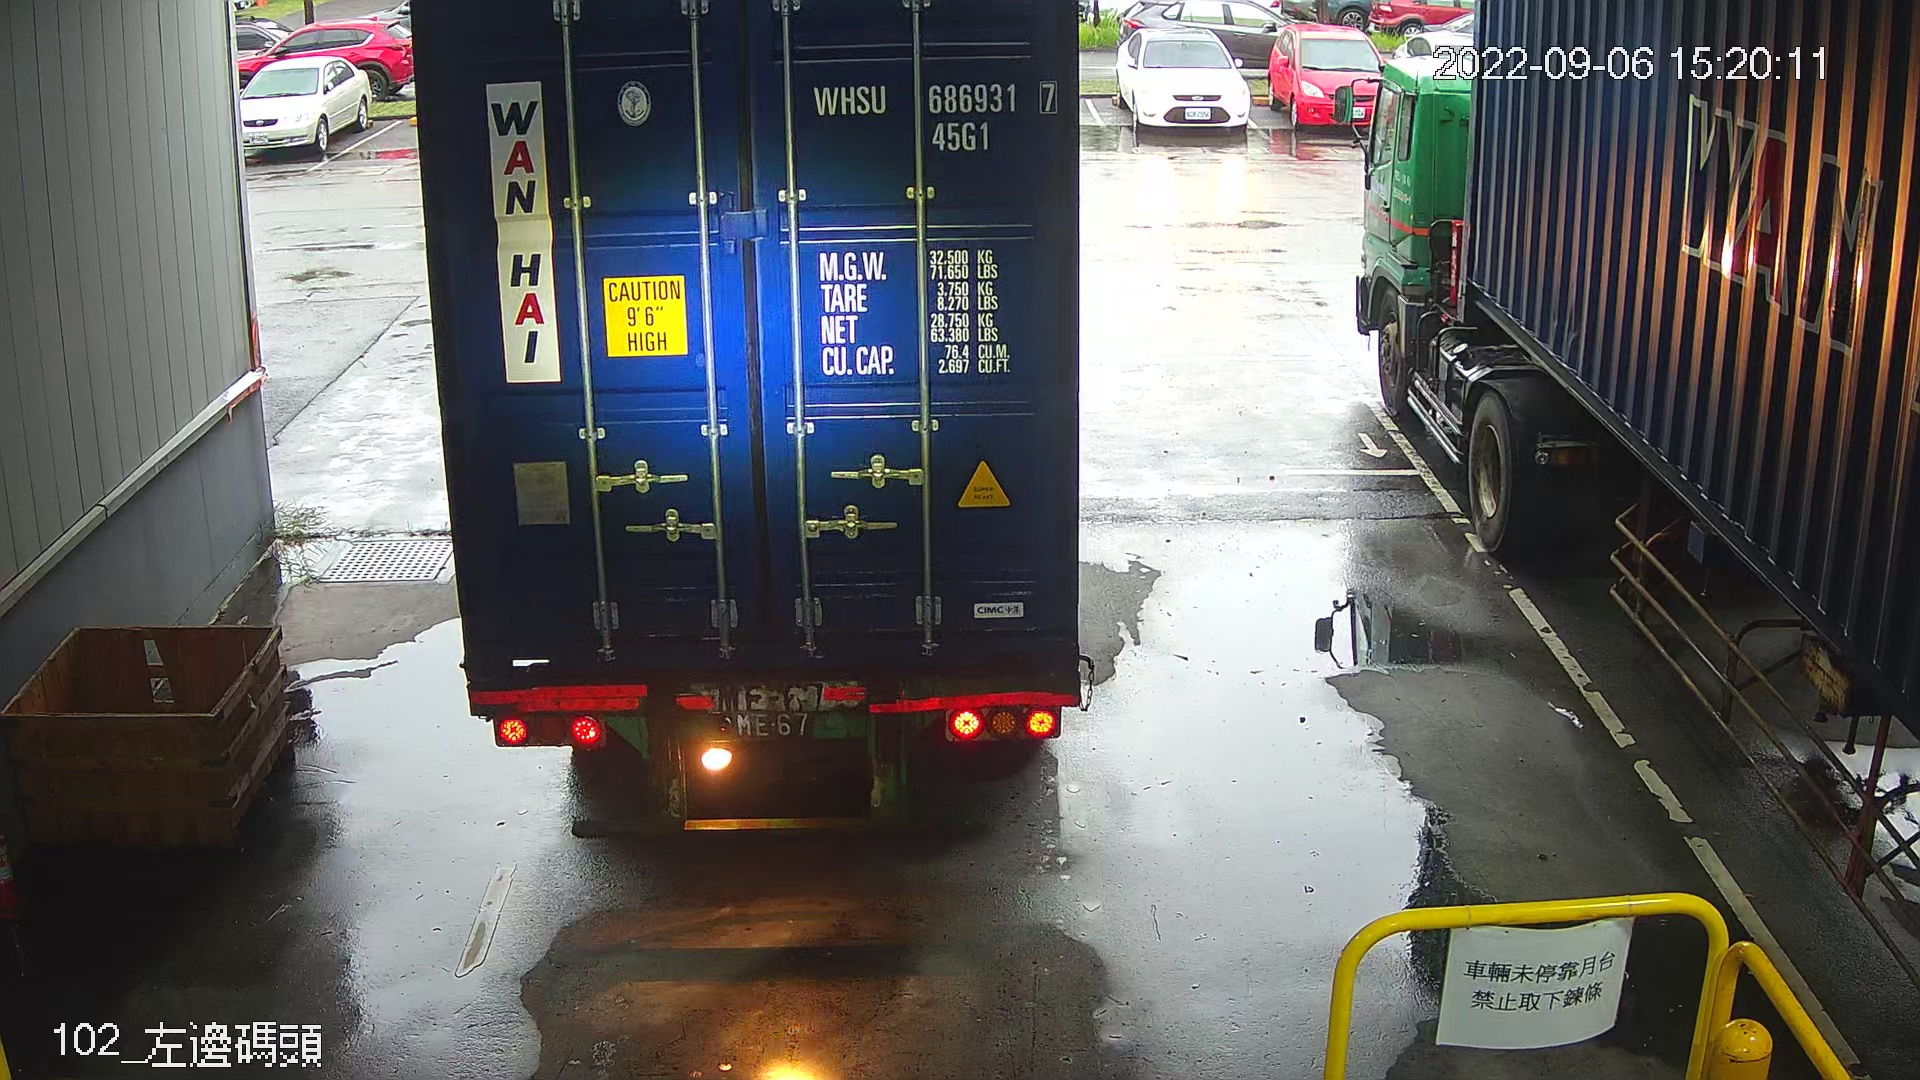container: (800, 73, 1069, 167)
